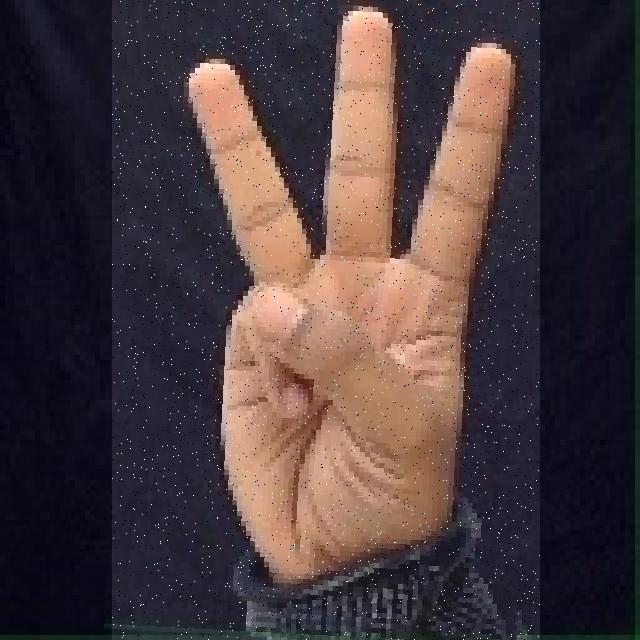Please: (112, 0, 540, 640)
